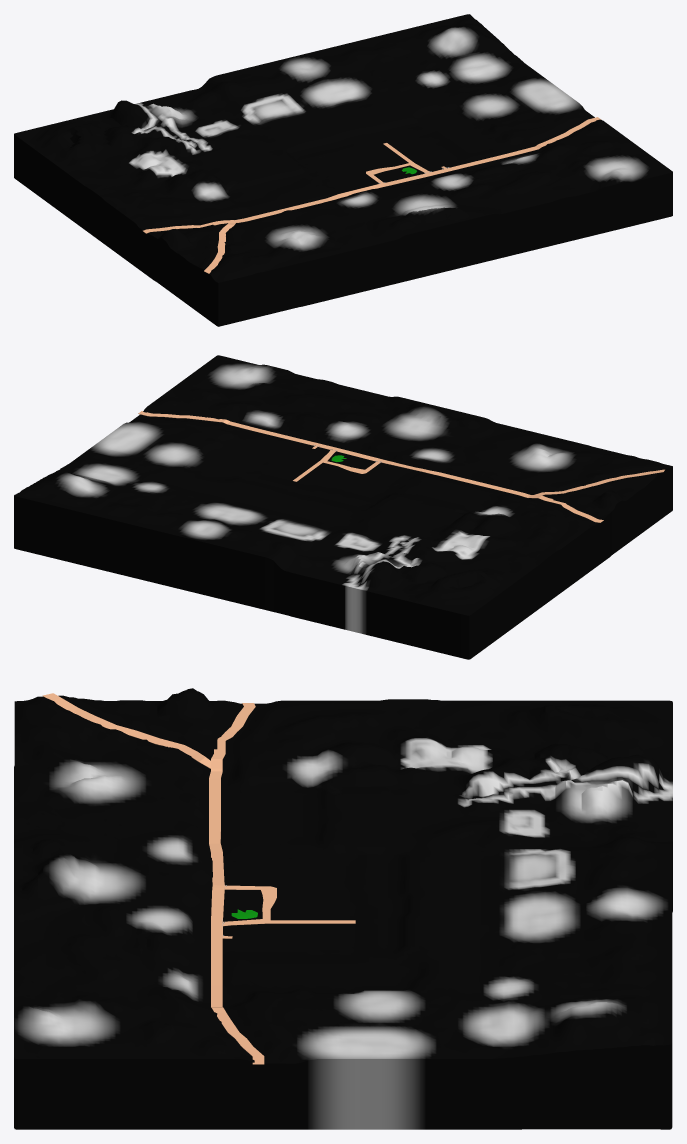
File: hills.glb
3 renders of one model, top to bottom at view 1: azimuth 30°, elevation 25°; view 2: azimuth 150°, elevation 25°; view 3: azimuth 270°, elevation 25°, orthographic. The views are drawn at different scales.
Visible parts, largest first — view 1: Plane.005, road; view 2: Plane.005, road; view 3: Plane.005, road.
Boxes of the visible parts, <box> form: Plane.005: <box>14,14,672,326</box>; road: <box>143,117,601,273</box>; Plane.005: <box>14,355,672,659</box>; road: <box>138,411,664,522</box>; Plane.005: <box>14,688,672,1129</box>; road: <box>42,693,355,1064</box>.
Size of the model in its own units: 904 by 113 by 697.
Materials: 4 (1 with a texture image).
